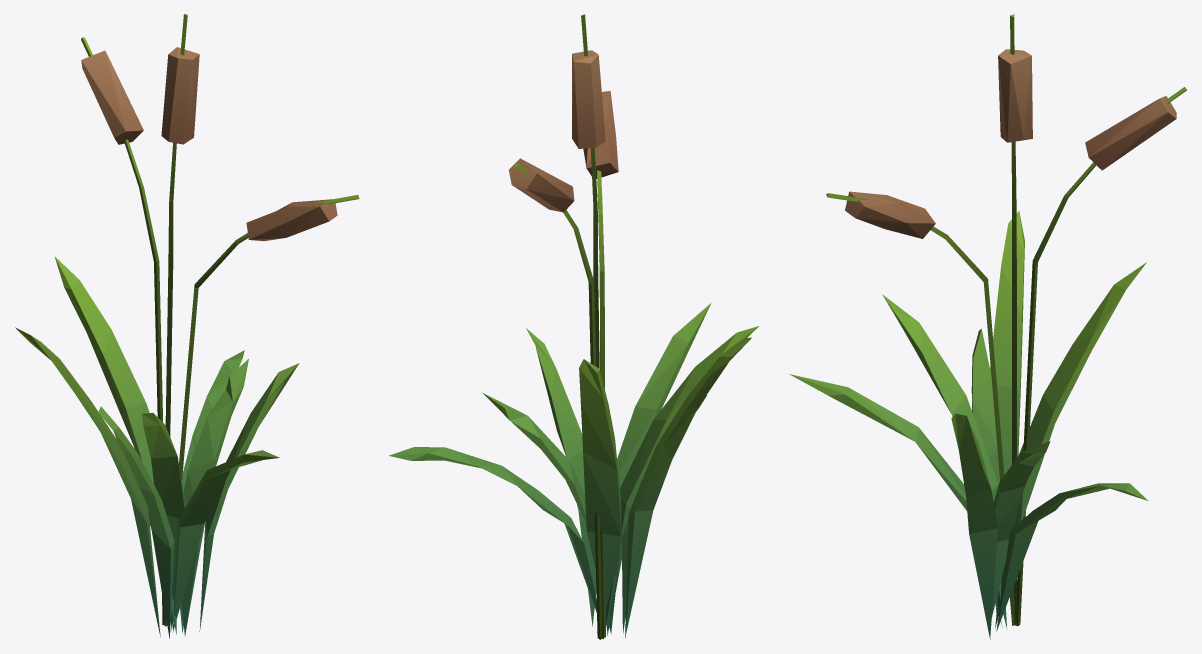
The model's file is ZLP_Grass_B_1.FBX.
3 views of the same model, side by side, from view 1: azimuth 30°, elevation 25°; view 2: azimuth 150°, elevation 25°; view 3: azimuth 270°, elevation 25° (orthographic). The views are drawn at different scales.
Visible parts, largest first — view 1: ZLP_Grass_B_1; view 2: ZLP_Grass_B_1; view 3: ZLP_Grass_B_1.
Part boxes in pixels (x1,y1,x2,y2): ZLP_Grass_B_1: (15, 14, 359, 638); ZLP_Grass_B_1: (389, 14, 758, 639); ZLP_Grass_B_1: (789, 14, 1186, 639).
Size of the model in its own units: 97.77 by 194 by 113.
